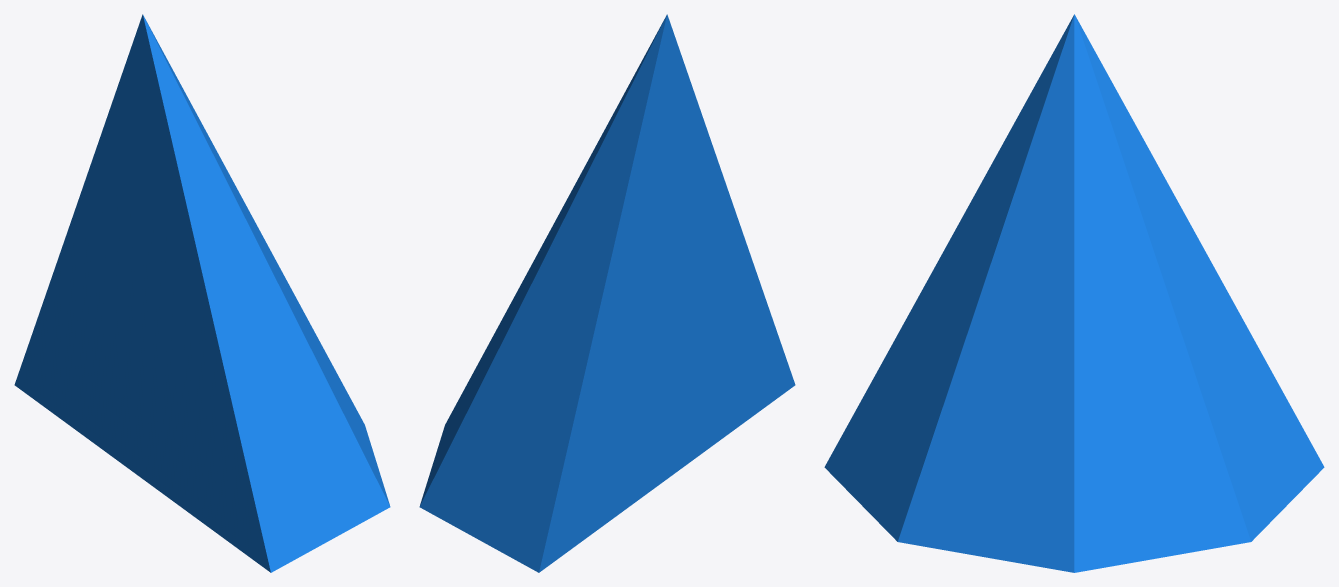
Rendered from Proto_Block_Top_Point_Octagon_Half_01.fbx.
3 views of the same model, side by side, from view 1: azimuth 30°, elevation 25°; view 2: azimuth 150°, elevation 25°; view 3: azimuth 270°, elevation 25° (orthographic). The views are drawn at different scales.
Parts seen in each view (by area): view 1: Proto_Block_Top_Point_Octagon_Half_01; view 2: Proto_Block_Top_Point_Octagon_Half_01; view 3: Proto_Block_Top_Point_Octagon_Half_01.
Part boxes in pixels (box(x1,y1,x2,y2)): Proto_Block_Top_Point_Octagon_Half_01: box(14, 14, 390, 572); Proto_Block_Top_Point_Octagon_Half_01: box(419, 14, 795, 572); Proto_Block_Top_Point_Octagon_Half_01: box(824, 14, 1324, 572).
Size of the model in its own units: 0.5 by 1 by 1.
